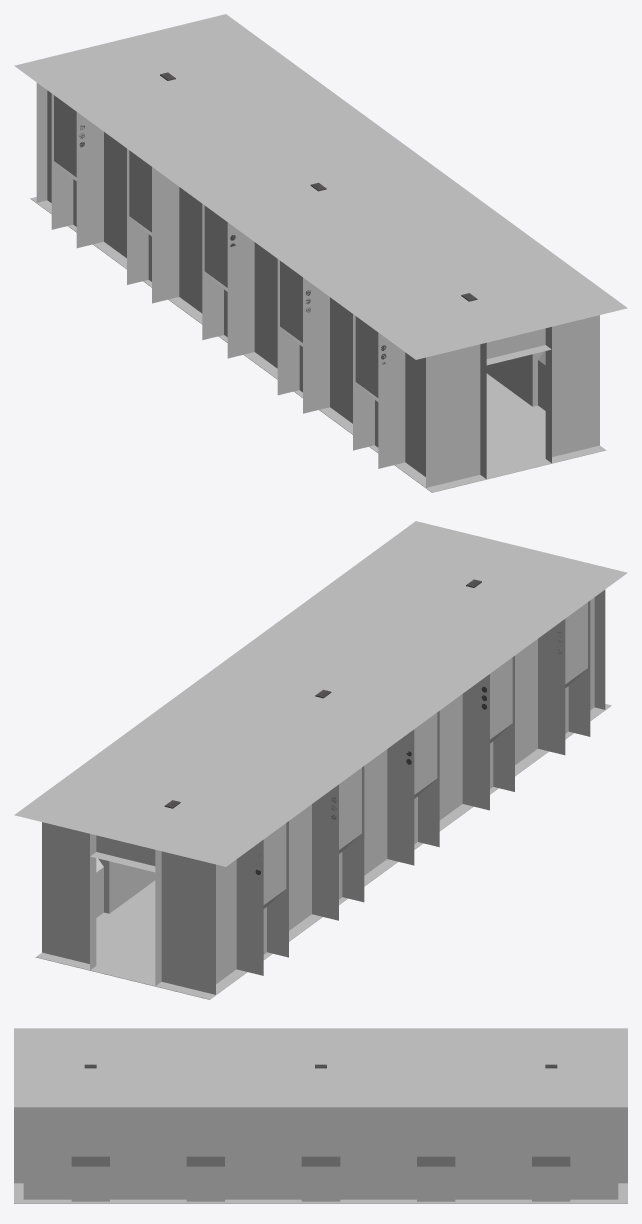
Rendered from LC_room2_3.obj.
3 renders of one model, top to bottom at view 1: azimuth 30°, elevation 25°; view 2: azimuth 150°, elevation 25°; view 3: azimuth 270°, elevation 25°, orthographic. The views are drawn at different scales.
Visible parts, largest first — view 1: room2HallwayLczAlt3_room2_5_opt; view 2: room2HallwayLczAlt3_room2_5_opt; view 3: room2HallwayLczAlt3_room2_5_opt.
Boxes of the visible parts, x1=… form: room2HallwayLczAlt3_room2_5_opt: x1=14, y1=14, x2=627, y2=492; room2HallwayLczAlt3_room2_5_opt: x1=14, y1=521, x2=627, y2=999; room2HallwayLczAlt3_room2_5_opt: x1=14, y1=1028, x2=627, y2=1203.
Bounding box in the file's own units: 6.24 × 3.88 × 20.48.
